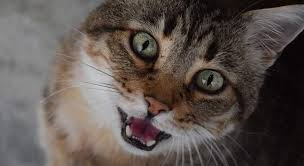Gato: (80, 4, 292, 160)
